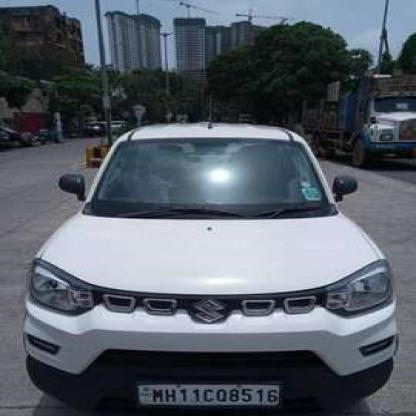license_plate: (137, 381, 279, 404)
